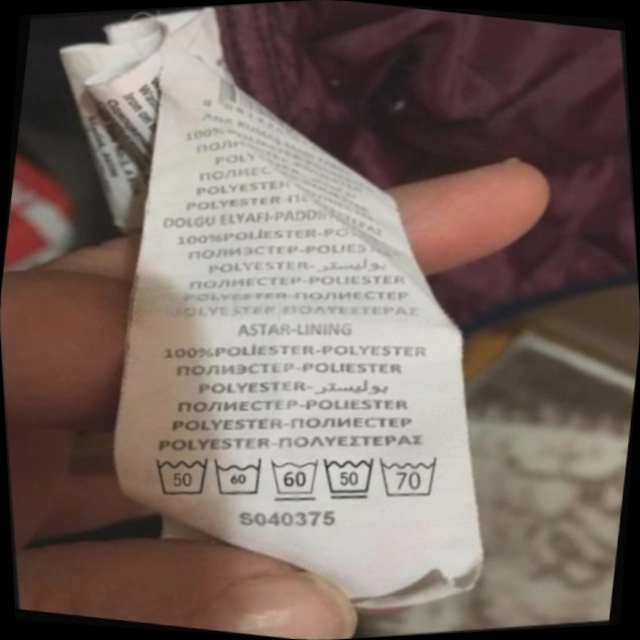50C: (139, 437, 224, 513), (311, 441, 389, 514)
60C: (259, 442, 334, 514), (202, 442, 277, 512)
70C: (370, 440, 455, 513)
